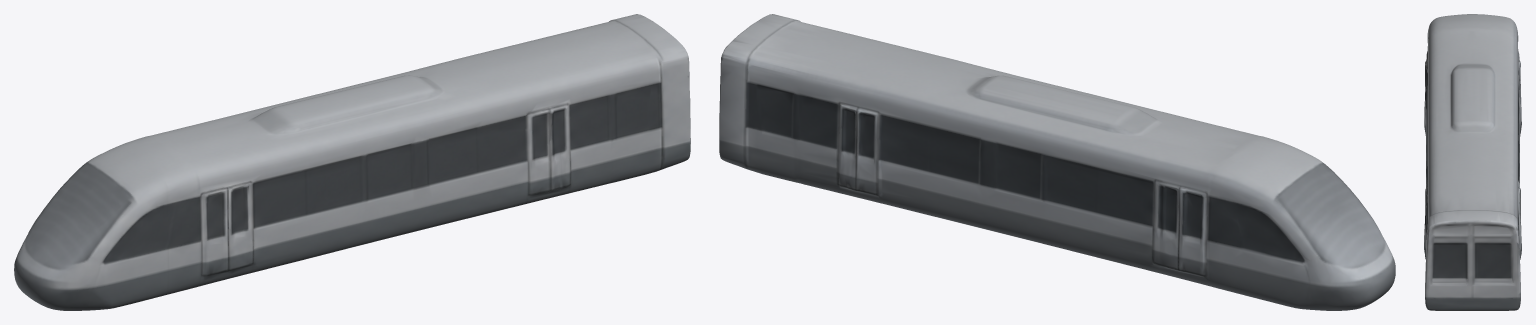
The model's file is tram.glb.
The picture shows the model from 3 angles, left to right: view 1: azimuth 30°, elevation 25°; view 2: azimuth 150°, elevation 25°; view 3: azimuth 270°, elevation 25°; orthographic projection. The views are drawn at different scales.
Visible parts, largest first — view 1: low; view 2: low; view 3: low.
Boxes of the visible parts, x1=… form: low: x1=14, y1=14, x2=690, y2=310; low: x1=719, y1=14, x2=1395, y2=310; low: x1=1424, y1=14, x2=1521, y2=310.
Bounding box in the file's own units: 1.87 × 0.3636 × 0.3095.
Materials: 1 (1 with a texture image).
